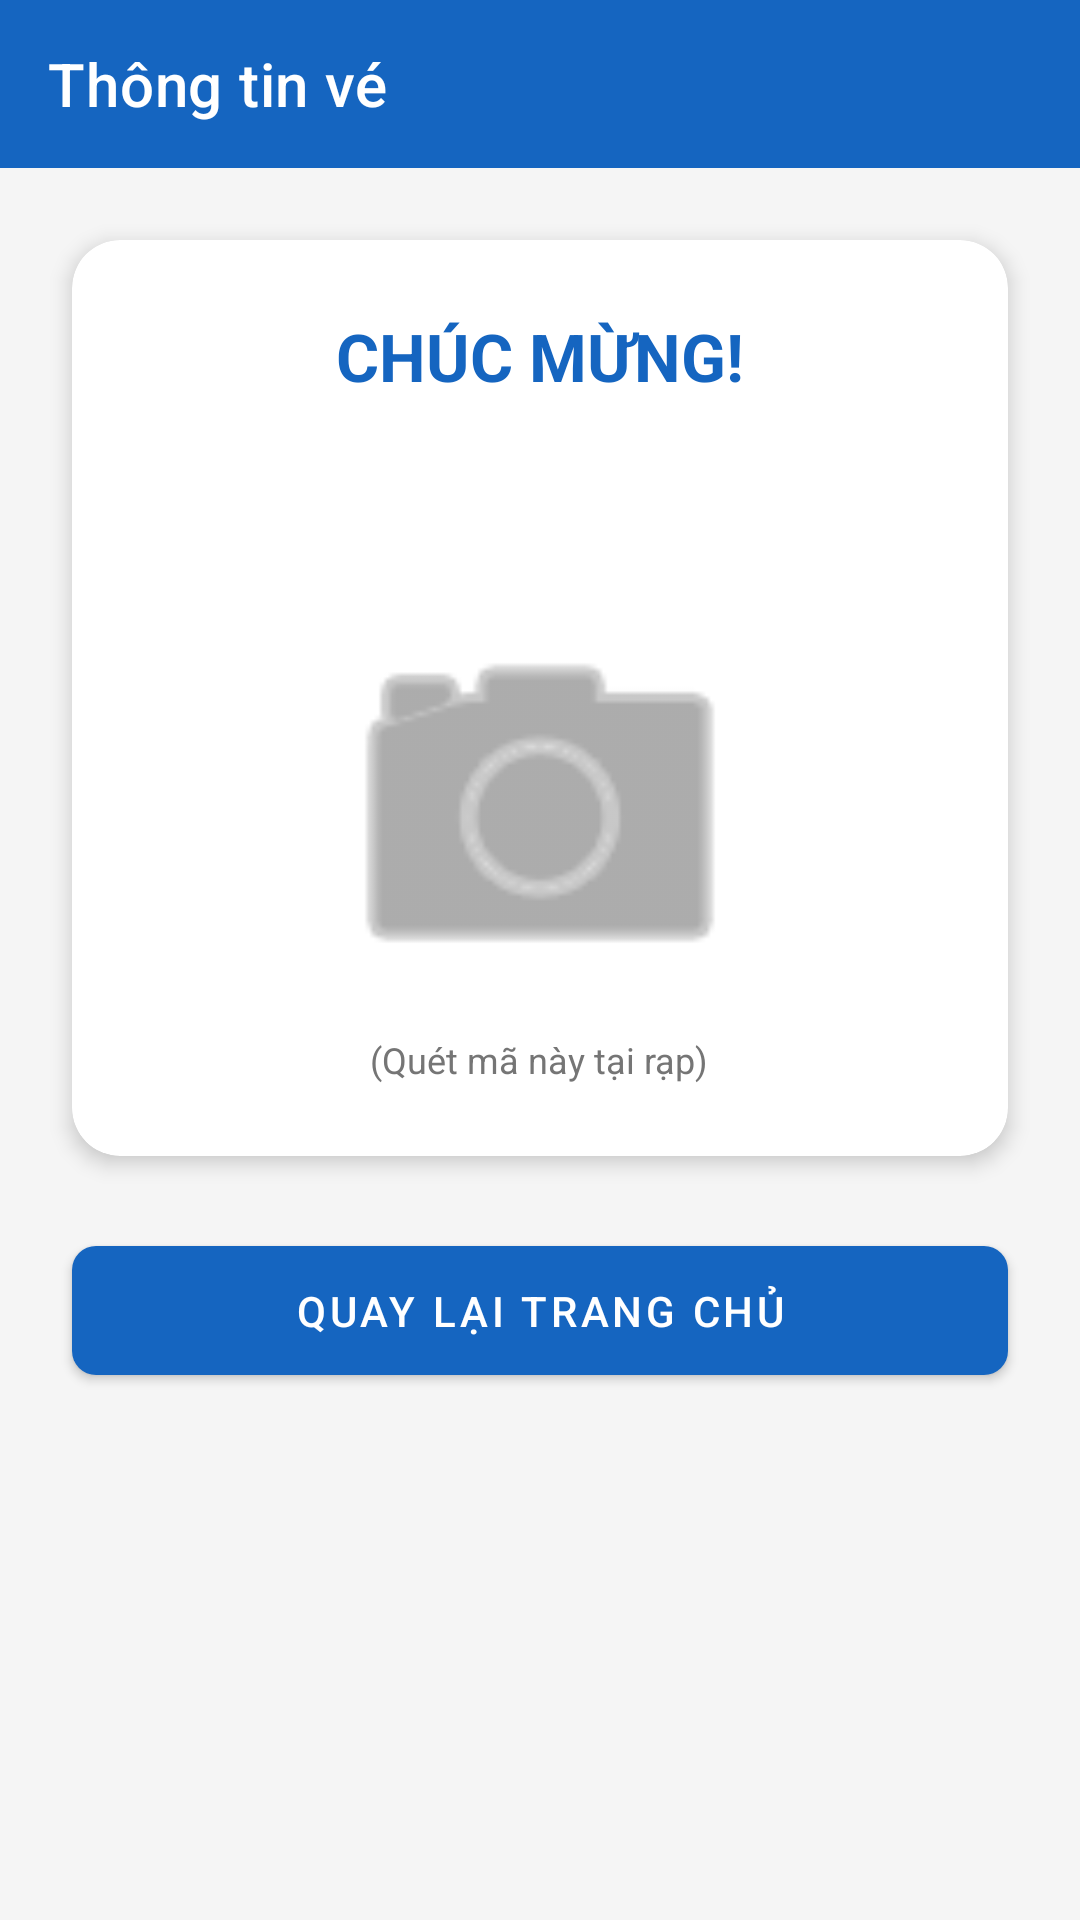

Named icons in this screenshot (1080 x 1920) and their centers, [x,y]:
camera: [540,803]
